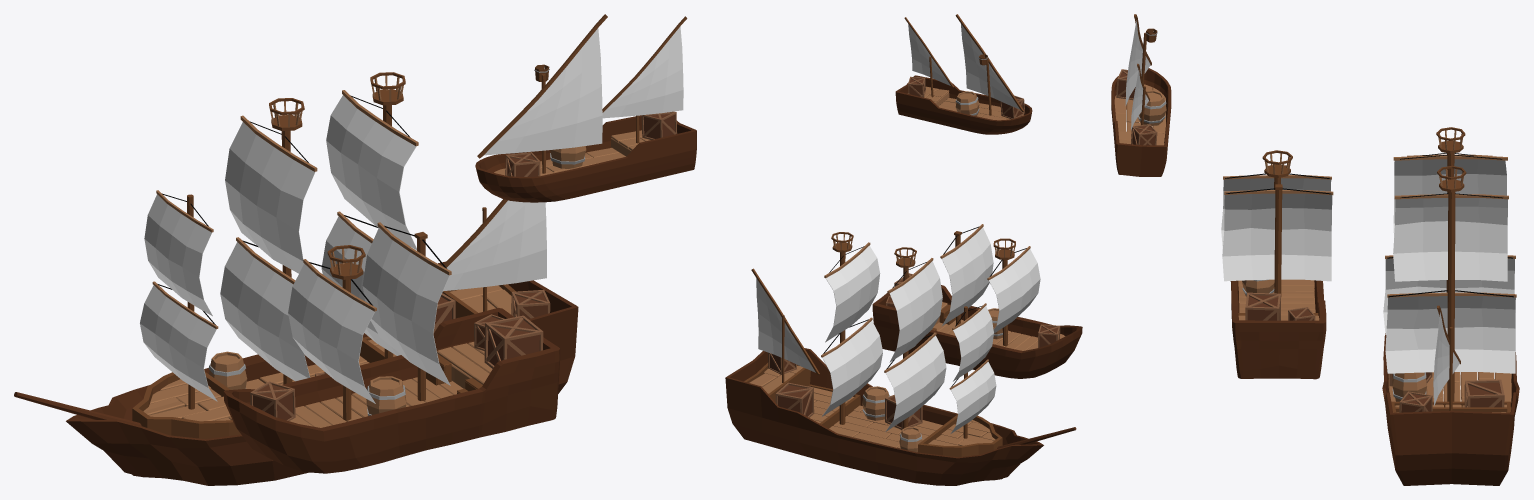
Rendered from test boats.fbx.
The picture shows the model from 3 angles, left to right: view 1: azimuth 30°, elevation 25°; view 2: azimuth 150°, elevation 25°; view 3: azimuth 270°, elevation 25°; orthographic projection. The views are drawn at different scales.
Parts seen in each view (by area): view 1: Cube.451, Cylinder.143, Cube.020; view 2: Cube.451, Cylinder.143, Cube.020; view 3: Cube.451, Cylinder.143, Cube.020.
Part boxes in pixels (bbox=[...]): Cube.451: bbox=[14, 72, 578, 485]; Cylinder.143: bbox=[223, 222, 560, 473]; Cube.020: bbox=[475, 14, 696, 202]; Cube.451: bbox=[725, 232, 1076, 485]; Cylinder.143: bbox=[872, 224, 1082, 378]; Cube.020: bbox=[895, 14, 1032, 134]; Cube.451: bbox=[1382, 127, 1519, 485]; Cylinder.143: bbox=[1221, 150, 1333, 379]; Cube.020: bbox=[1111, 14, 1171, 176].
Size of the model in its own units: 1029 by 1013 by 873.
